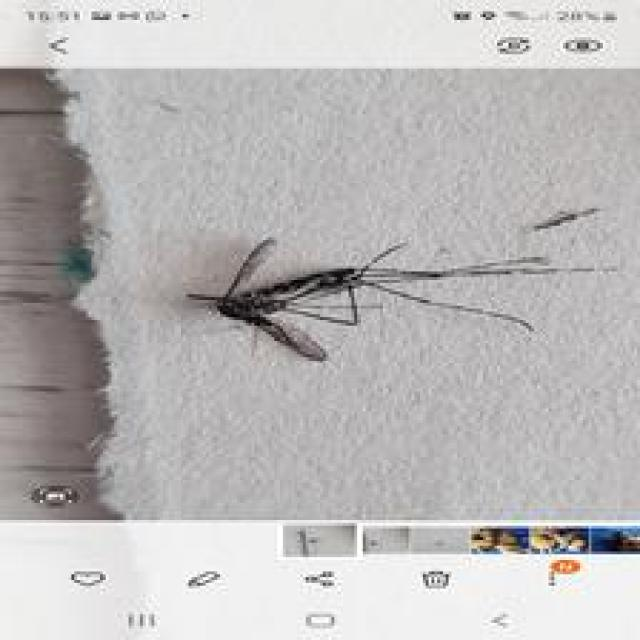Aedes albopictus: (184, 234, 616, 363)
